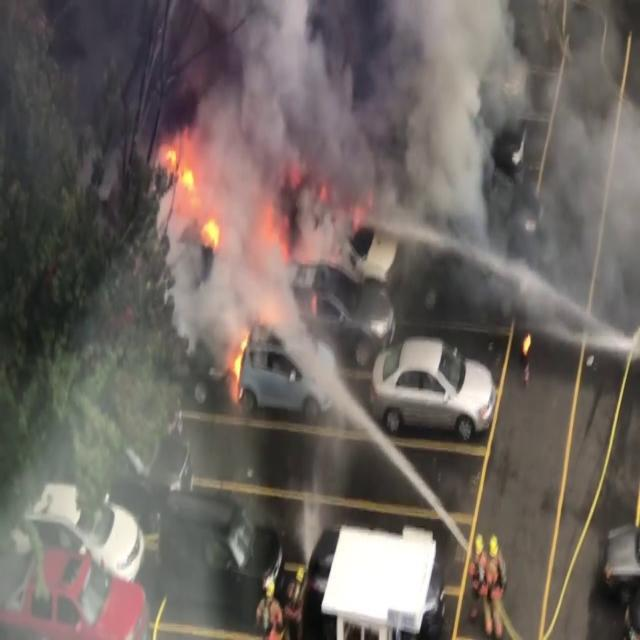Fire: (157, 129, 221, 249), (227, 328, 253, 402)
Smoke: (167, 0, 529, 316)
